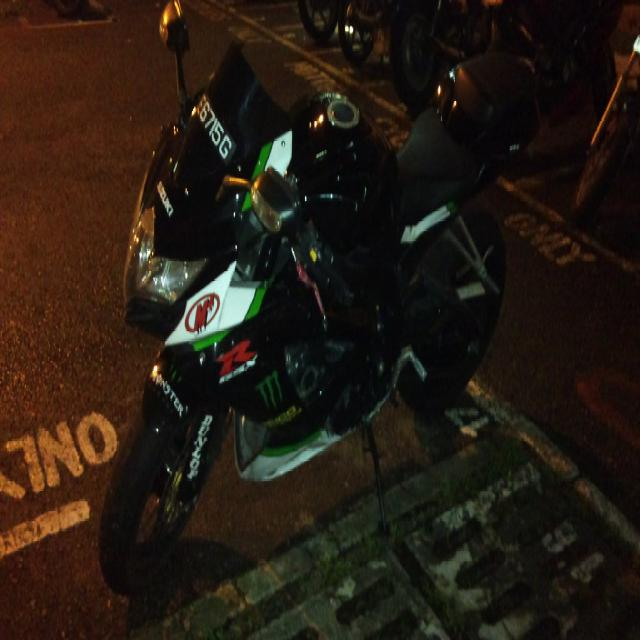Motorbike: (96, 0, 508, 609)
